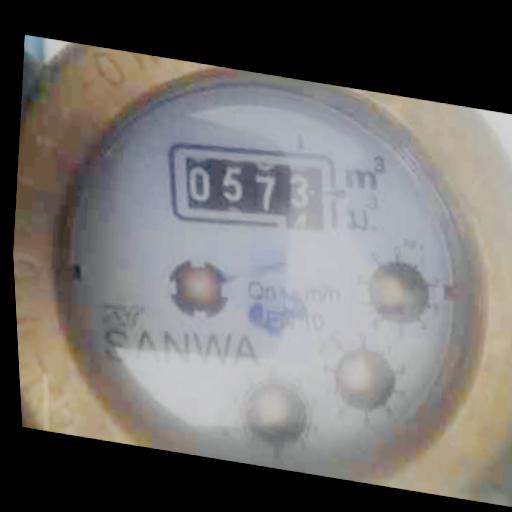0: (179, 154, 221, 213)
3: (277, 161, 330, 235)
5: (210, 157, 253, 216)
7: (240, 157, 291, 220)
border_water_meter_number: (158, 126, 345, 249)
